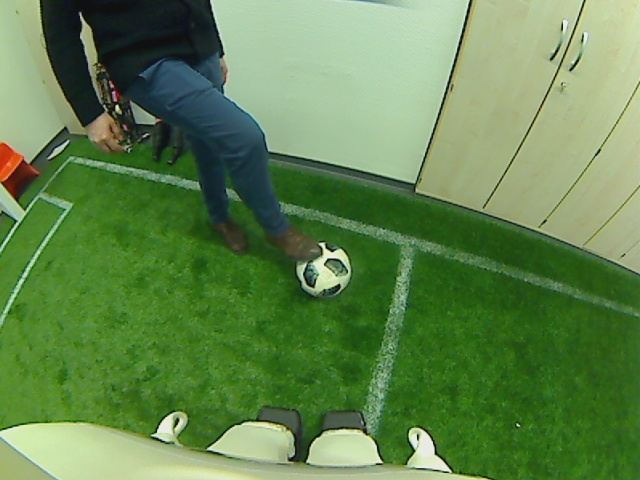ball: (295, 242, 353, 300)
